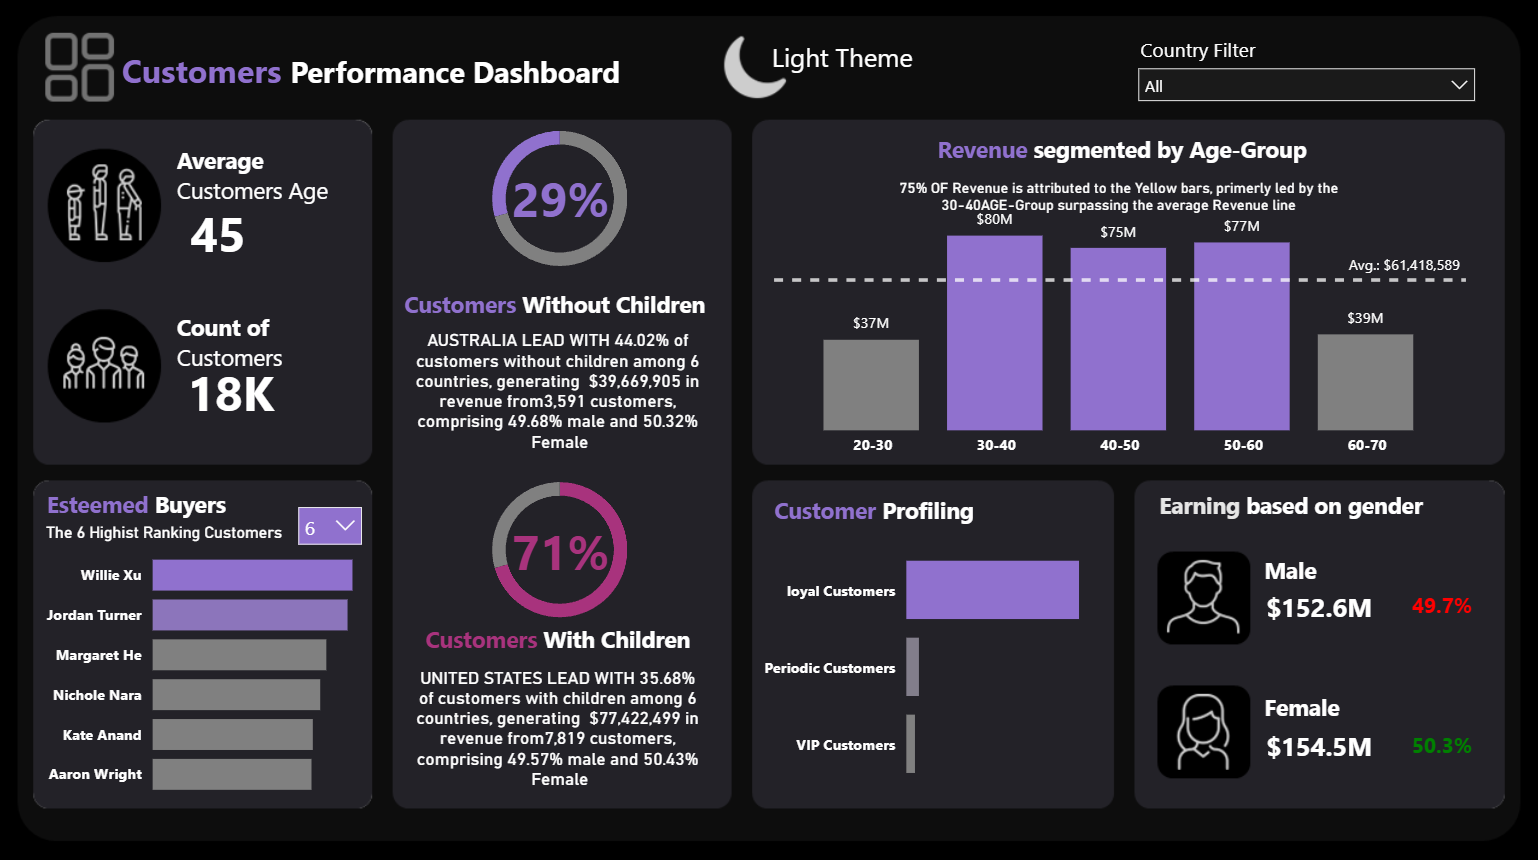

The dashboard page shown, as its layout file describes it:
{"tool":"powerbi","page":{"name":"Dark theme","canvas":[1280,720],"ordinal":1},"visuals":[{"type":"clusteredColumnChart","fields":{"Category":["DimCustomer.Age Category"],"Y":["All Measures.Total Revenue"]},"box":[639.5,162.8,583.7,226.7],"z":0},{"type":"card","fields":{"Values":["Customers Measures.Avg Caption"]},"box":[697.7,127.9,468.6,79.1],"z":1000},{"type":"textbox","box":[746.5,109.3,373.3,37.2],"z":2000},{"type":"donutChart","fields":{"Y":["Customers Measures.%CWC","Customers Measures.%CWOC"]},"box":[391.9,92.3,150,150],"z":3000},{"type":"donutChart","fields":{"Y":["Customers Measures.%CWC","Customers Measures.%CWOC"]},"box":[391.9,383.7,150,150],"z":4000},{"type":"card","fields":{"Values":["Customers Measures.%CWOC"]},"box":[408.8,135.5,118.6,61],"z":5000},{"type":"card","fields":{"Values":["Customers Measures.%CWC"]},"box":[408.8,427.9,118.6,62.1],"z":6000},{"type":"textbox","box":[332.6,237.6,268.6,37.2],"z":7000},{"type":"textbox","box":[350,515.1,251.2,37.2],"z":8000},{"type":"card","fields":{"Values":["Customers Measures.Caption of CWOC"]},"box":[332.6,541.9,268.6,126.7],"z":9000},{"type":"card","fields":{"Values":["Customers Measures.Caption of CWC"]},"box":[332.6,259.7,268.6,131.4],"z":10000},{"type":"barChart","fields":{"Category":["DimCustomer.Customers Type"],"Y":["All Measures.Total Revenue"]},"box":[630.2,429.1,286,247.7],"z":11000},{"type":"barChart","fields":{"Category":["DimCustomer.Full Name"],"Y":["Customers Measures.Dynamic Customers"]},"box":[34.9,440.7,269.8,236],"z":12000},{"type":"slicer","fields":{"Values":["Dynamic customers.Dynamic customers"]},"box":[239.5,412.8,73.3,46.5],"z":13000},{"type":"card","fields":{"Values":["Customers Measures.Male Revenue"]},"box":[1036.3,488.4,119.8,39.5],"z":14000},{"type":"card","fields":{"Values":["Customers Measures.Female Revenue"]},"box":[1036.3,603.5,119.8,39.5],"z":15000},{"type":"card","fields":{"Values":["Customers Measures.Pct Male Revenue"]},"box":[1167.5,491.7,60.5,30.2],"z":16000},{"type":"card","fields":{"Values":["Customers Measures.Pct Female Revenue"]},"box":[1167.5,606.8,60.5,30.2],"z":17000},{"type":"card","fields":{"Values":["Customers Measures.Avg Customers Age"]},"box":[150,167.4,66.3,54.7],"z":18000},{"type":"card","fields":{"Values":["Customers Measures.#Customers"]},"box":[141.1,295.8,106.1,64.4],"z":19000},{"type":"textbox","box":[144.2,118.6,145.3,65.1],"z":20000},{"type":"textbox","box":[144.2,255.8,114,65.1],"z":21000},{"type":"textbox","box":[1045.4,458.1,82.6,41.9],"z":22000},{"type":"textbox","box":[1045.4,570.9,97.7,41.9],"z":23000},{"type":"textbox","box":[35.9,403.5,177.9,37.2],"z":24000},{"type":"textbox","box":[639.5,408.1,195.3,37.2],"z":25000},{"type":"textbox","box":[958.1,404.7,265.1,37.2],"z":26000},{"type":"card","fields":{"Values":["Customers Measures.title top customers"]},"box":[31.2,431.4,215.1,27.9],"z":27000},{"type":"textbox","box":[636.8,30.5,178.4,42.9],"z":28000},{"type":"textbox","box":[98.8,37.2,466.3,46.5],"z":29000},{"type":"slicer","fields":{"Values":["DimGeography.Country"]},"box":[936.1,48.6,299.2,48.6],"z":30000},{"type":"textbox","box":[942.8,27.1,177.3,39.5],"z":31000},{"type":"actionButton","box":[601.8,33.9,171.6,49.7],"z":32000}]}

Visuals, with their boxes in screenshot pixels (x1, y1, x2, y2), scaled from the page's 1280x720 canvas onto the 1538x860 screenshot:
clusteredColumnChart - DimCustomer.Age Category x All Measures.Total Revenue: [left=768, top=194, right=1470, bottom=465]
card - Customers Measures.Avg Caption: [left=838, top=153, right=1401, bottom=247]
textbox: [left=897, top=131, right=1346, bottom=175]
donutChart - Customers Measures.%CWC x Customers Measures.%CWOC: [left=471, top=110, right=651, bottom=289]
donutChart - Customers Measures.%CWC x Customers Measures.%CWOC: [left=471, top=458, right=651, bottom=637]
card - Customers Measures.%CWOC: [left=491, top=162, right=634, bottom=235]
card - Customers Measures.%CWC: [left=491, top=511, right=634, bottom=585]
textbox: [left=400, top=284, right=722, bottom=328]
textbox: [left=421, top=615, right=722, bottom=660]
card - Customers Measures.Caption of CWOC: [left=400, top=647, right=722, bottom=799]
card - Customers Measures.Caption of CWC: [left=400, top=310, right=722, bottom=467]
barChart - DimCustomer.Customers Type x All Measures.Total Revenue: [left=757, top=513, right=1101, bottom=808]
barChart - DimCustomer.Full Name x Customers Measures.Dynamic Customers: [left=42, top=526, right=366, bottom=808]
slicer - Dynamic customers.Dynamic customers: [left=288, top=493, right=376, bottom=549]
card - Customers Measures.Male Revenue: [left=1245, top=583, right=1389, bottom=631]
card - Customers Measures.Female Revenue: [left=1245, top=721, right=1389, bottom=768]
card - Customers Measures.Pct Male Revenue: [left=1403, top=587, right=1476, bottom=623]
card - Customers Measures.Pct Female Revenue: [left=1403, top=725, right=1476, bottom=761]
card - Customers Measures.Avg Customers Age: [left=180, top=200, right=260, bottom=265]
card - Customers Measures.#Customers: [left=170, top=353, right=297, bottom=430]
textbox: [left=173, top=142, right=348, bottom=219]
textbox: [left=173, top=306, right=310, bottom=383]
textbox: [left=1256, top=547, right=1355, bottom=597]
textbox: [left=1256, top=682, right=1374, bottom=732]
textbox: [left=43, top=482, right=257, bottom=526]
textbox: [left=768, top=487, right=1003, bottom=532]
textbox: [left=1151, top=483, right=1470, bottom=528]
card - Customers Measures.title top customers: [left=37, top=515, right=296, bottom=549]
textbox: [left=765, top=36, right=980, bottom=88]
textbox: [left=119, top=44, right=679, bottom=100]
slicer - DimGeography.Country: [left=1125, top=58, right=1484, bottom=116]
textbox: [left=1133, top=32, right=1346, bottom=80]
actionButton: [left=723, top=40, right=929, bottom=100]
